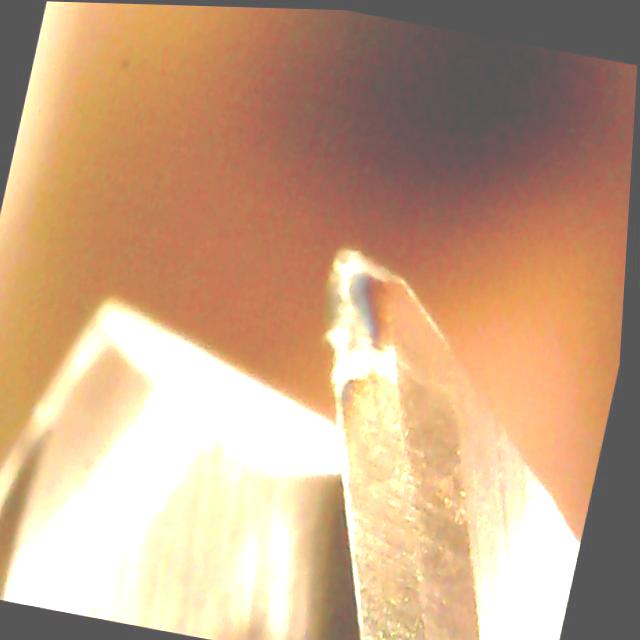Tool-wear-class-1: (254, 237, 520, 598)
